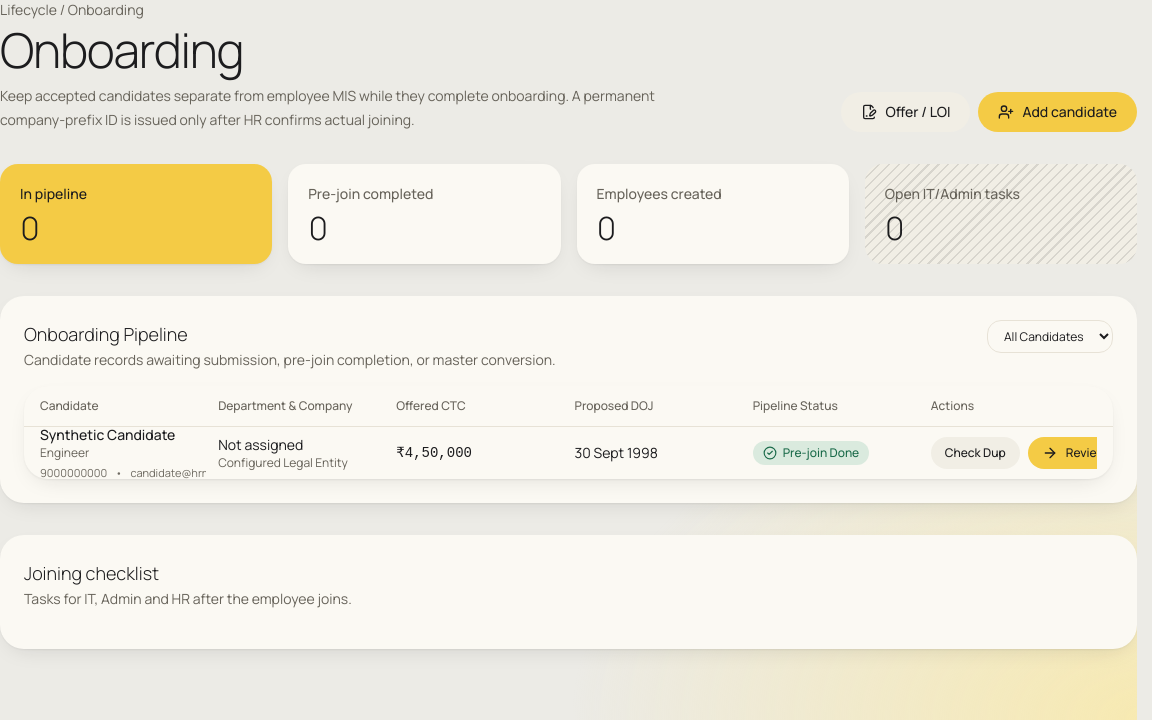
Test: LC-01 actual joining UI › uses the API email field and scopes the duplicate-check result truthfully
Step 1. Click the button "Check Dup" → (975, 453), box [931, 437, 1020, 469]
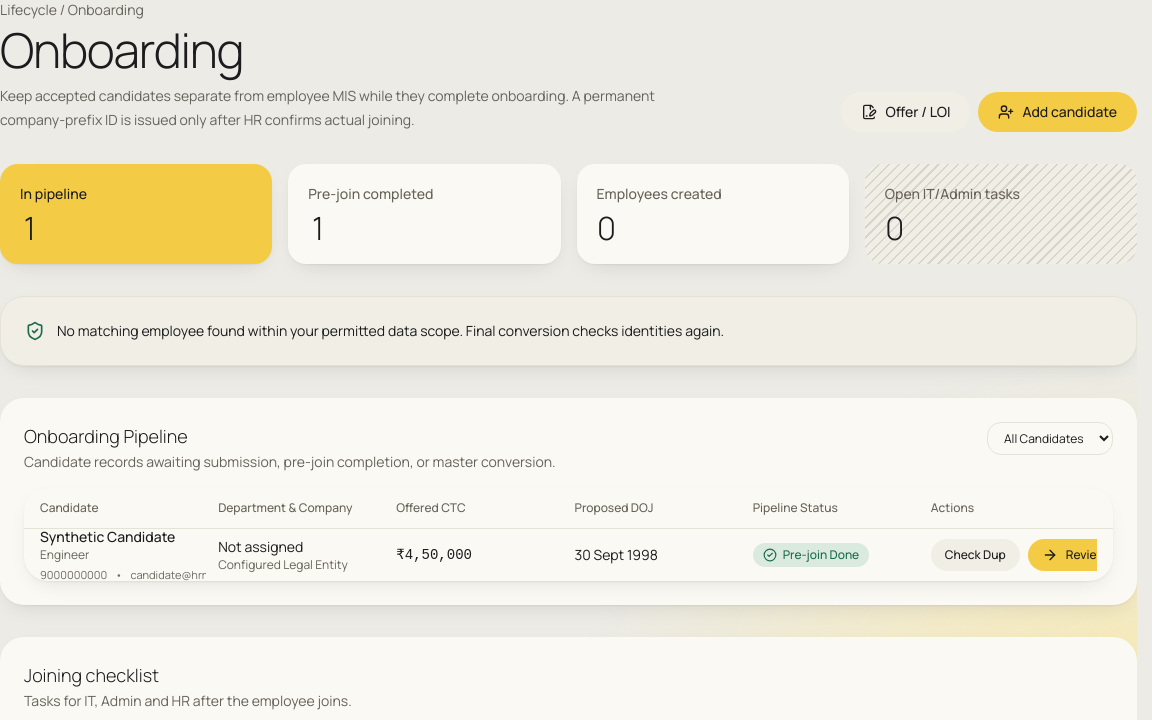
Check: the text "No matching employee found within your permitted data scope" is shown, box [57, 321, 724, 340]
